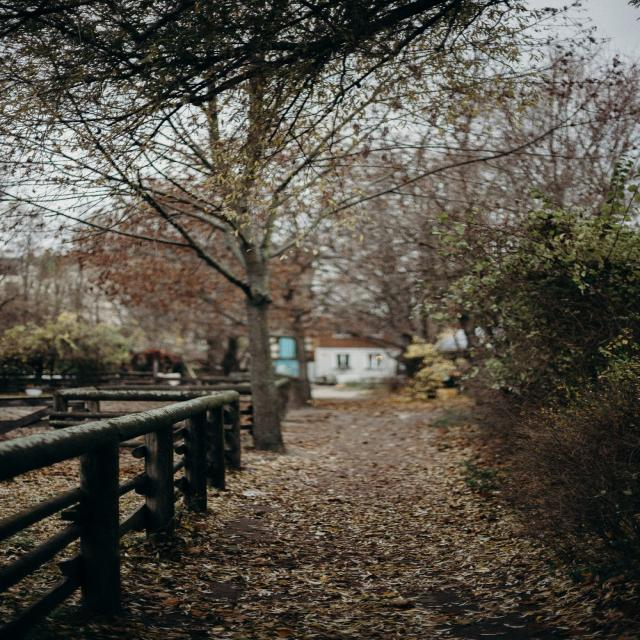organic waste: (240, 576, 422, 640), (272, 502, 387, 566), (429, 501, 496, 557)
